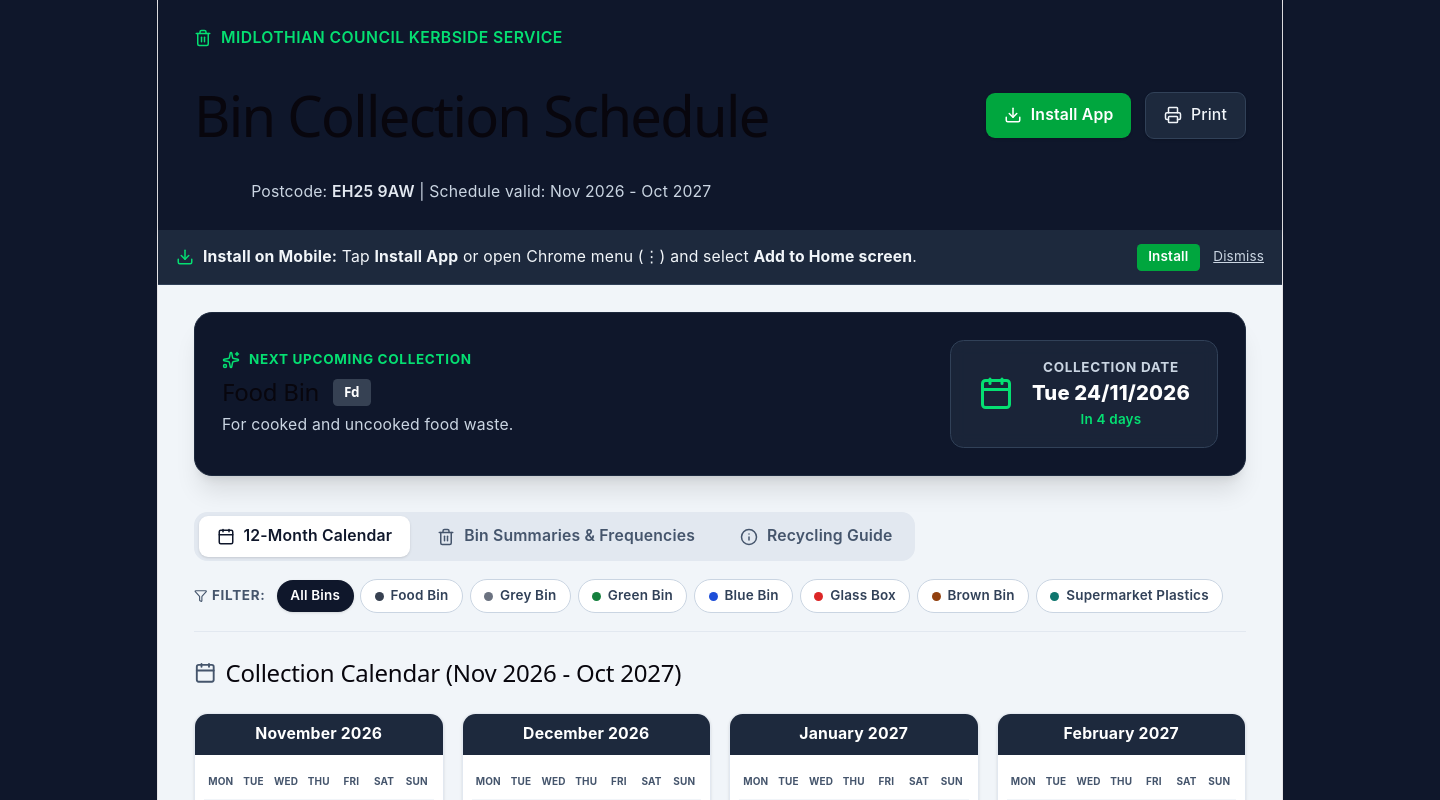
Test: App interactions › shows plastic type identifier with route labels
The width and height of the screenshot is (1440, 800).
Step 1. Click the tab "Recycling Guide" → click(816, 537), box top-left (722, 516), bottom-right (910, 557)
(page scrolled)
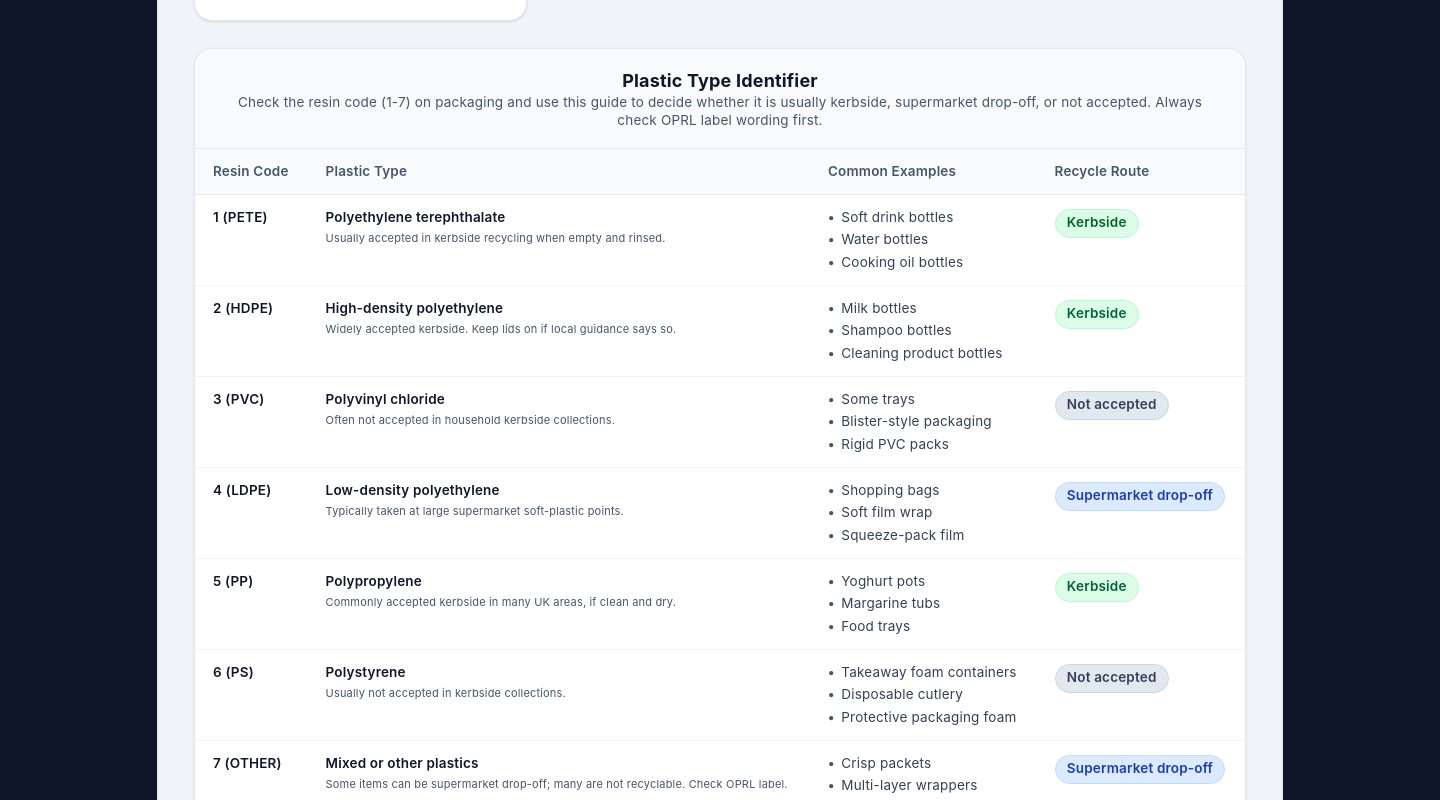
Now the heading "Plastic Type Identifier" is shown, box top-left (622, 70), bottom-right (818, 92)
Now the column heading "Resin Code" is shown, box top-left (195, 149), bottom-right (308, 195)
Now the text "Kerbside" in the row of "PETE" is shown, box top-left (1067, 214), bottom-right (1126, 230)
